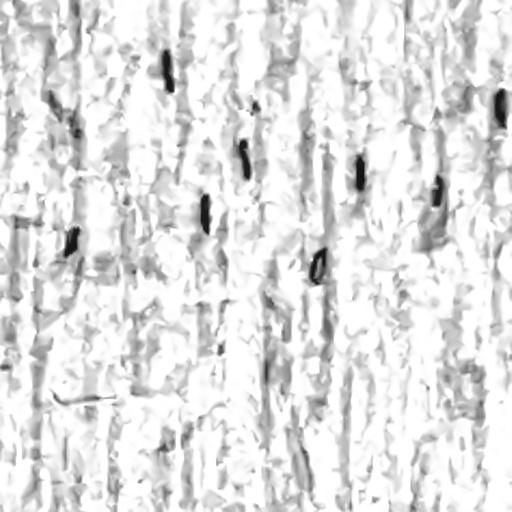egg: (309, 247, 326, 284), (493, 88, 508, 128), (238, 138, 251, 179), (161, 49, 173, 92), (64, 226, 80, 257), (200, 193, 210, 233), (355, 154, 365, 191), (432, 175, 443, 206)
